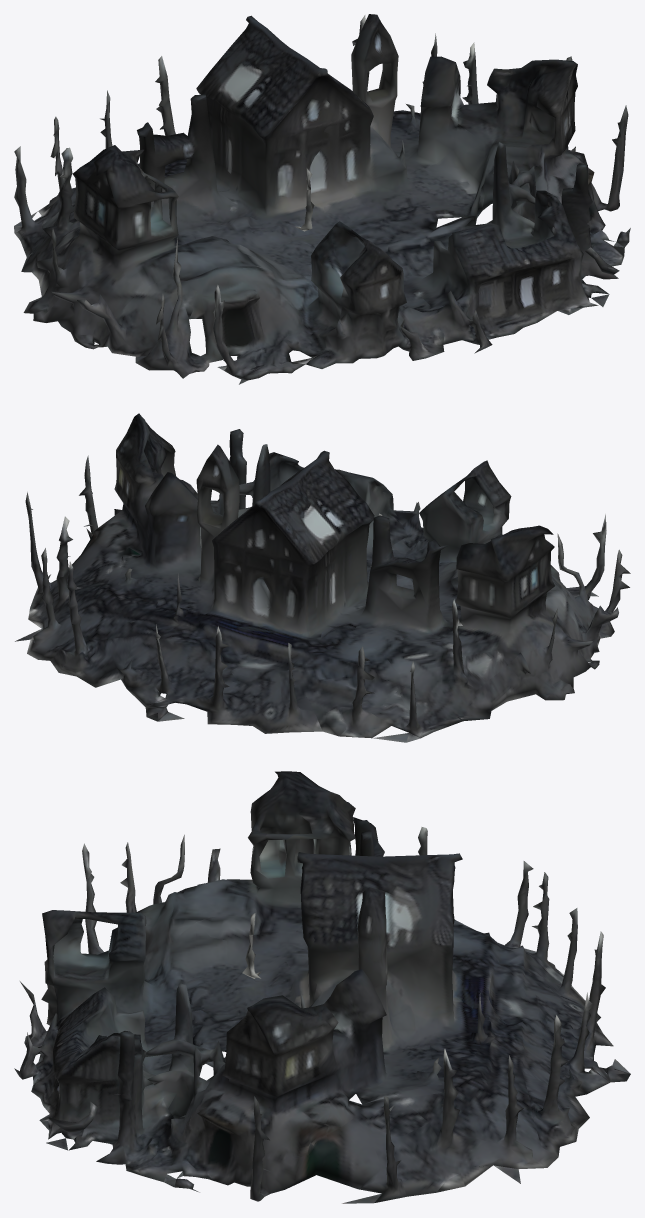
Rendered from ghost_lyruined_village.glb.
3 renders of one model, top to bottom at view 1: azimuth 30°, elevation 25°; view 2: azimuth 150°, elevation 25°; view 3: azimuth 270°, elevation 25°, orthographic. The views are drawn at different scales.
Visible parts, largest first — view 1: GhostlyRuinedVillage; view 2: GhostlyRuinedVillage; view 3: GhostlyRuinedVillage.
Part boxes in pixels (bbox=[...]): GhostlyRuinedVillage: bbox=[14, 14, 630, 384]; GhostlyRuinedVillage: bbox=[15, 413, 630, 742]; GhostlyRuinedVillage: bbox=[14, 771, 630, 1203].
Bounding box in the file's own units: 12 × 4.07 × 10.41.
1 material, 1 textured.
